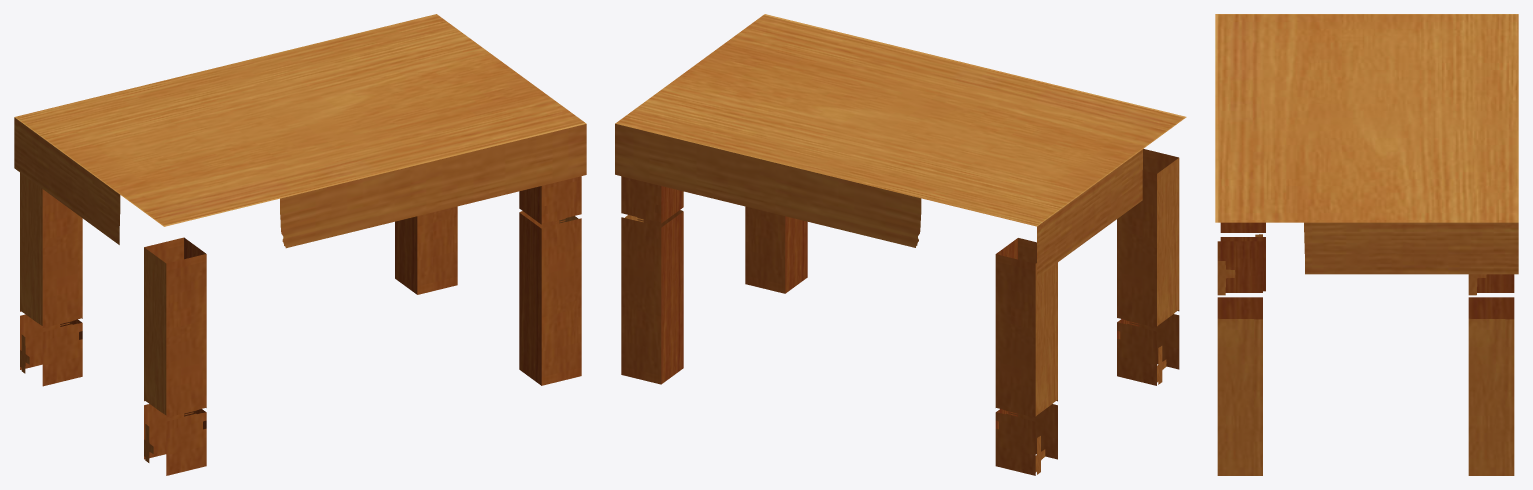
Rendered from desk1.fbx.
3 views of the same model, side by side, from view 1: azimuth 30°, elevation 25°; view 2: azimuth 150°, elevation 25°; view 3: azimuth 270°, elevation 25° (orthographic).
Visible parts, largest first — view 1: desk1; view 2: desk1; view 3: desk1.
Boxes of the visible parts, left/top/right/bottom form: desk1: left=14, top=14, right=586, bottom=475; desk1: left=615, top=14, right=1186, bottom=475; desk1: left=1215, top=14, right=1518, bottom=475.
Size of the model in its own units: 8.04 by 4.59 by 4.94.
